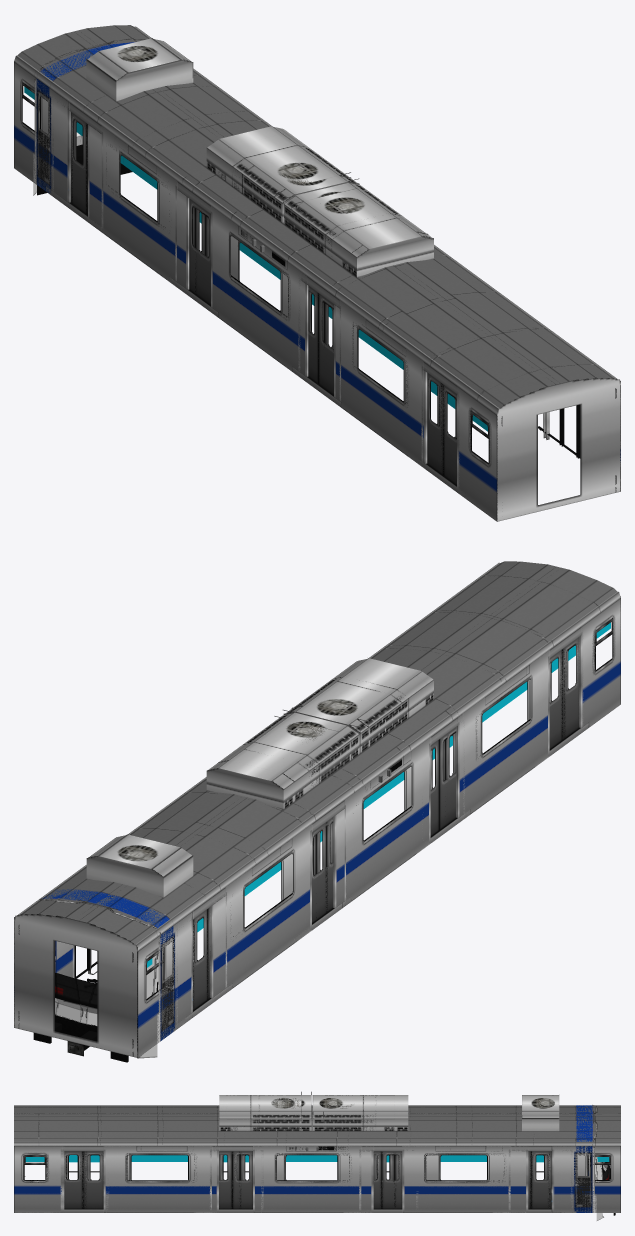
The picture shows the model from 3 angles, top to bottom: view 1: azimuth 30°, elevation 25°; view 2: azimuth 150°, elevation 25°; view 3: azimuth 270°, elevation 25°; orthographic projection. The views are drawn at different scales.
Parts seen in each view (by area): view 1: cab-shell-0, trailer-shell-5, cab-left-4, trailer-left-7, cab-left-2, trailer-left-9; view 2: cab-shell-0, trailer-shell-5, trailer-left-7, cab-left-4, cab-left-2, trailer-left-9; view 3: cab-shell-0, trailer-shell-5, cab-right-1, trailer-right-8, cab-right-3, trailer-right-6.
Part boxes in pixels (x1=…): cab-shell-0: x1=33, y1=38, x2=620, y2=521; trailer-shell-5: x1=14, y1=25, x2=616, y2=520; cab-left-4: x1=70, y1=112, x2=443, y2=474; trailer-left-7: x1=72, y1=118, x2=456, y2=475; cab-left-2: x1=87, y1=124, x2=456, y2=484; trailer-left-9: x1=70, y1=113, x2=441, y2=466; cab-shell-0: x1=33, y1=561, x2=620, y2=1062; trailer-shell-5: x1=14, y1=561, x2=620, y2=1057; trailer-left-7: x1=193, y1=637, x2=579, y2=1008; cab-left-4: x1=193, y1=649, x2=564, y2=1009; cab-left-2: x1=207, y1=638, x2=579, y2=998; trailer-left-9: x1=193, y1=649, x2=562, y2=1006; cab-shell-0: x1=14, y1=1091, x2=615, y2=1220; trailer-shell-5: x1=14, y1=1091, x2=620, y2=1212; cab-right-1: x1=83, y1=1151, x2=551, y2=1208; trailer-right-8: x1=64, y1=1151, x2=549, y2=1208; cab-right-3: x1=64, y1=1151, x2=531, y2=1208; trailer-right-6: x1=85, y1=1151, x2=551, y2=1208.
Size of the model in its own units: 2.94 by 3.44 by 19.
Materials: 1 (1 with a texture image).
